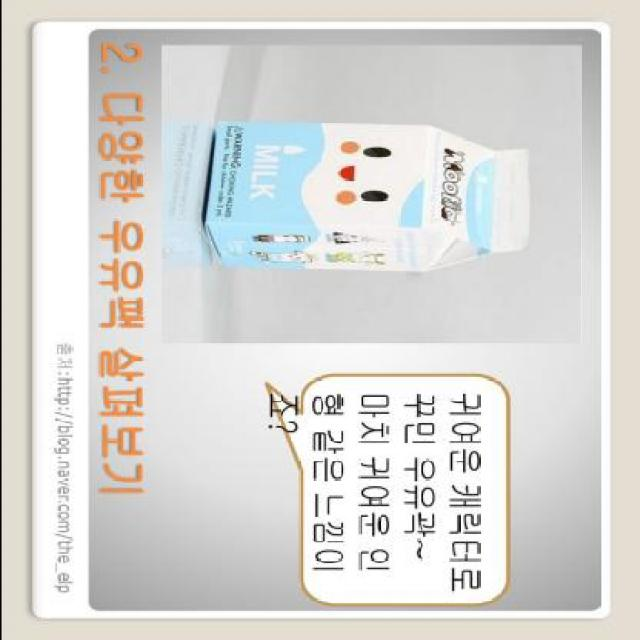non_white_jug: (187, 116, 544, 279)
